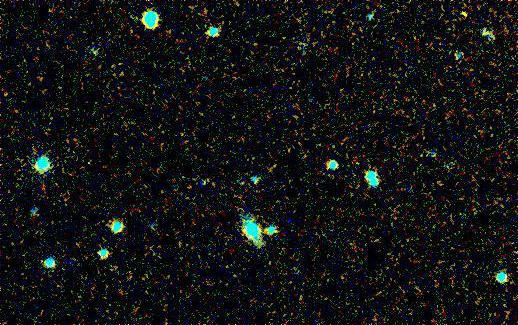star: (450, 0, 480, 30)
